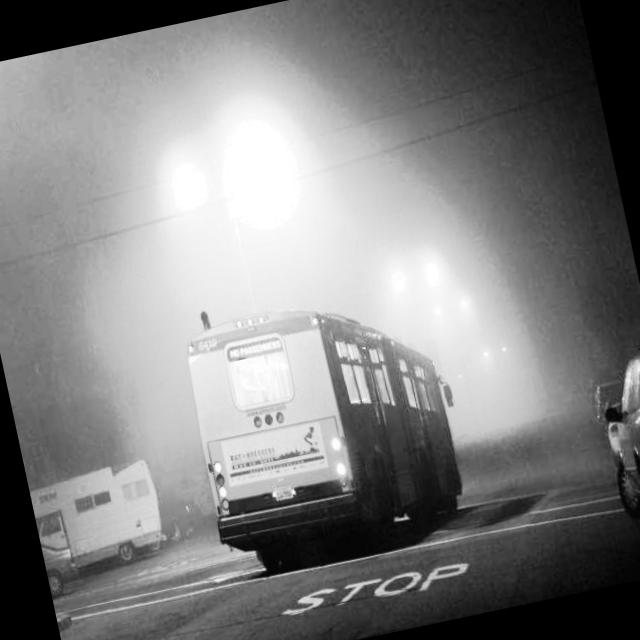Bus: (166, 280, 487, 601)
Car: (22, 432, 182, 616), (558, 294, 640, 503)
